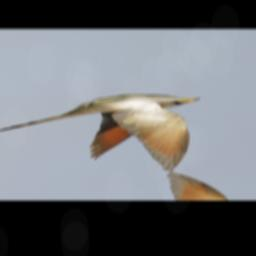Cuckoo: (0, 83, 236, 195)
